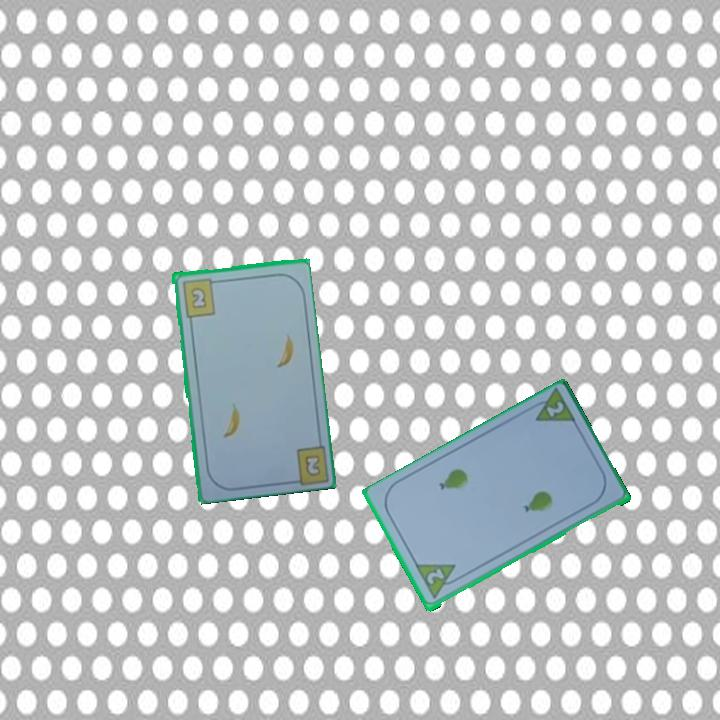2b: (178, 275, 221, 320), (301, 451, 324, 479)
2p: (542, 398, 567, 421), (423, 565, 447, 588)
